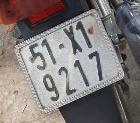1: (72, 18, 97, 51), (70, 55, 94, 89), (39, 35, 60, 67)
2: (56, 63, 80, 97)
5: (26, 40, 50, 72)
7: (85, 48, 111, 84)
9: (39, 70, 64, 105)
X: (60, 23, 86, 57)
